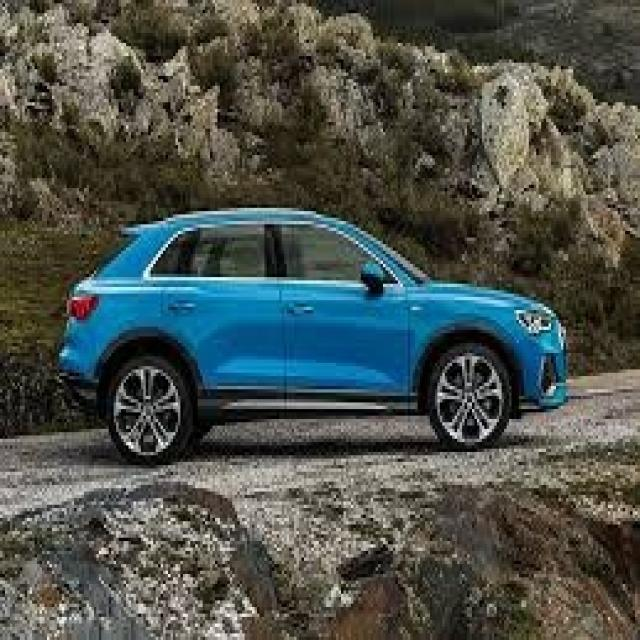blue: (46, 185, 564, 447)
